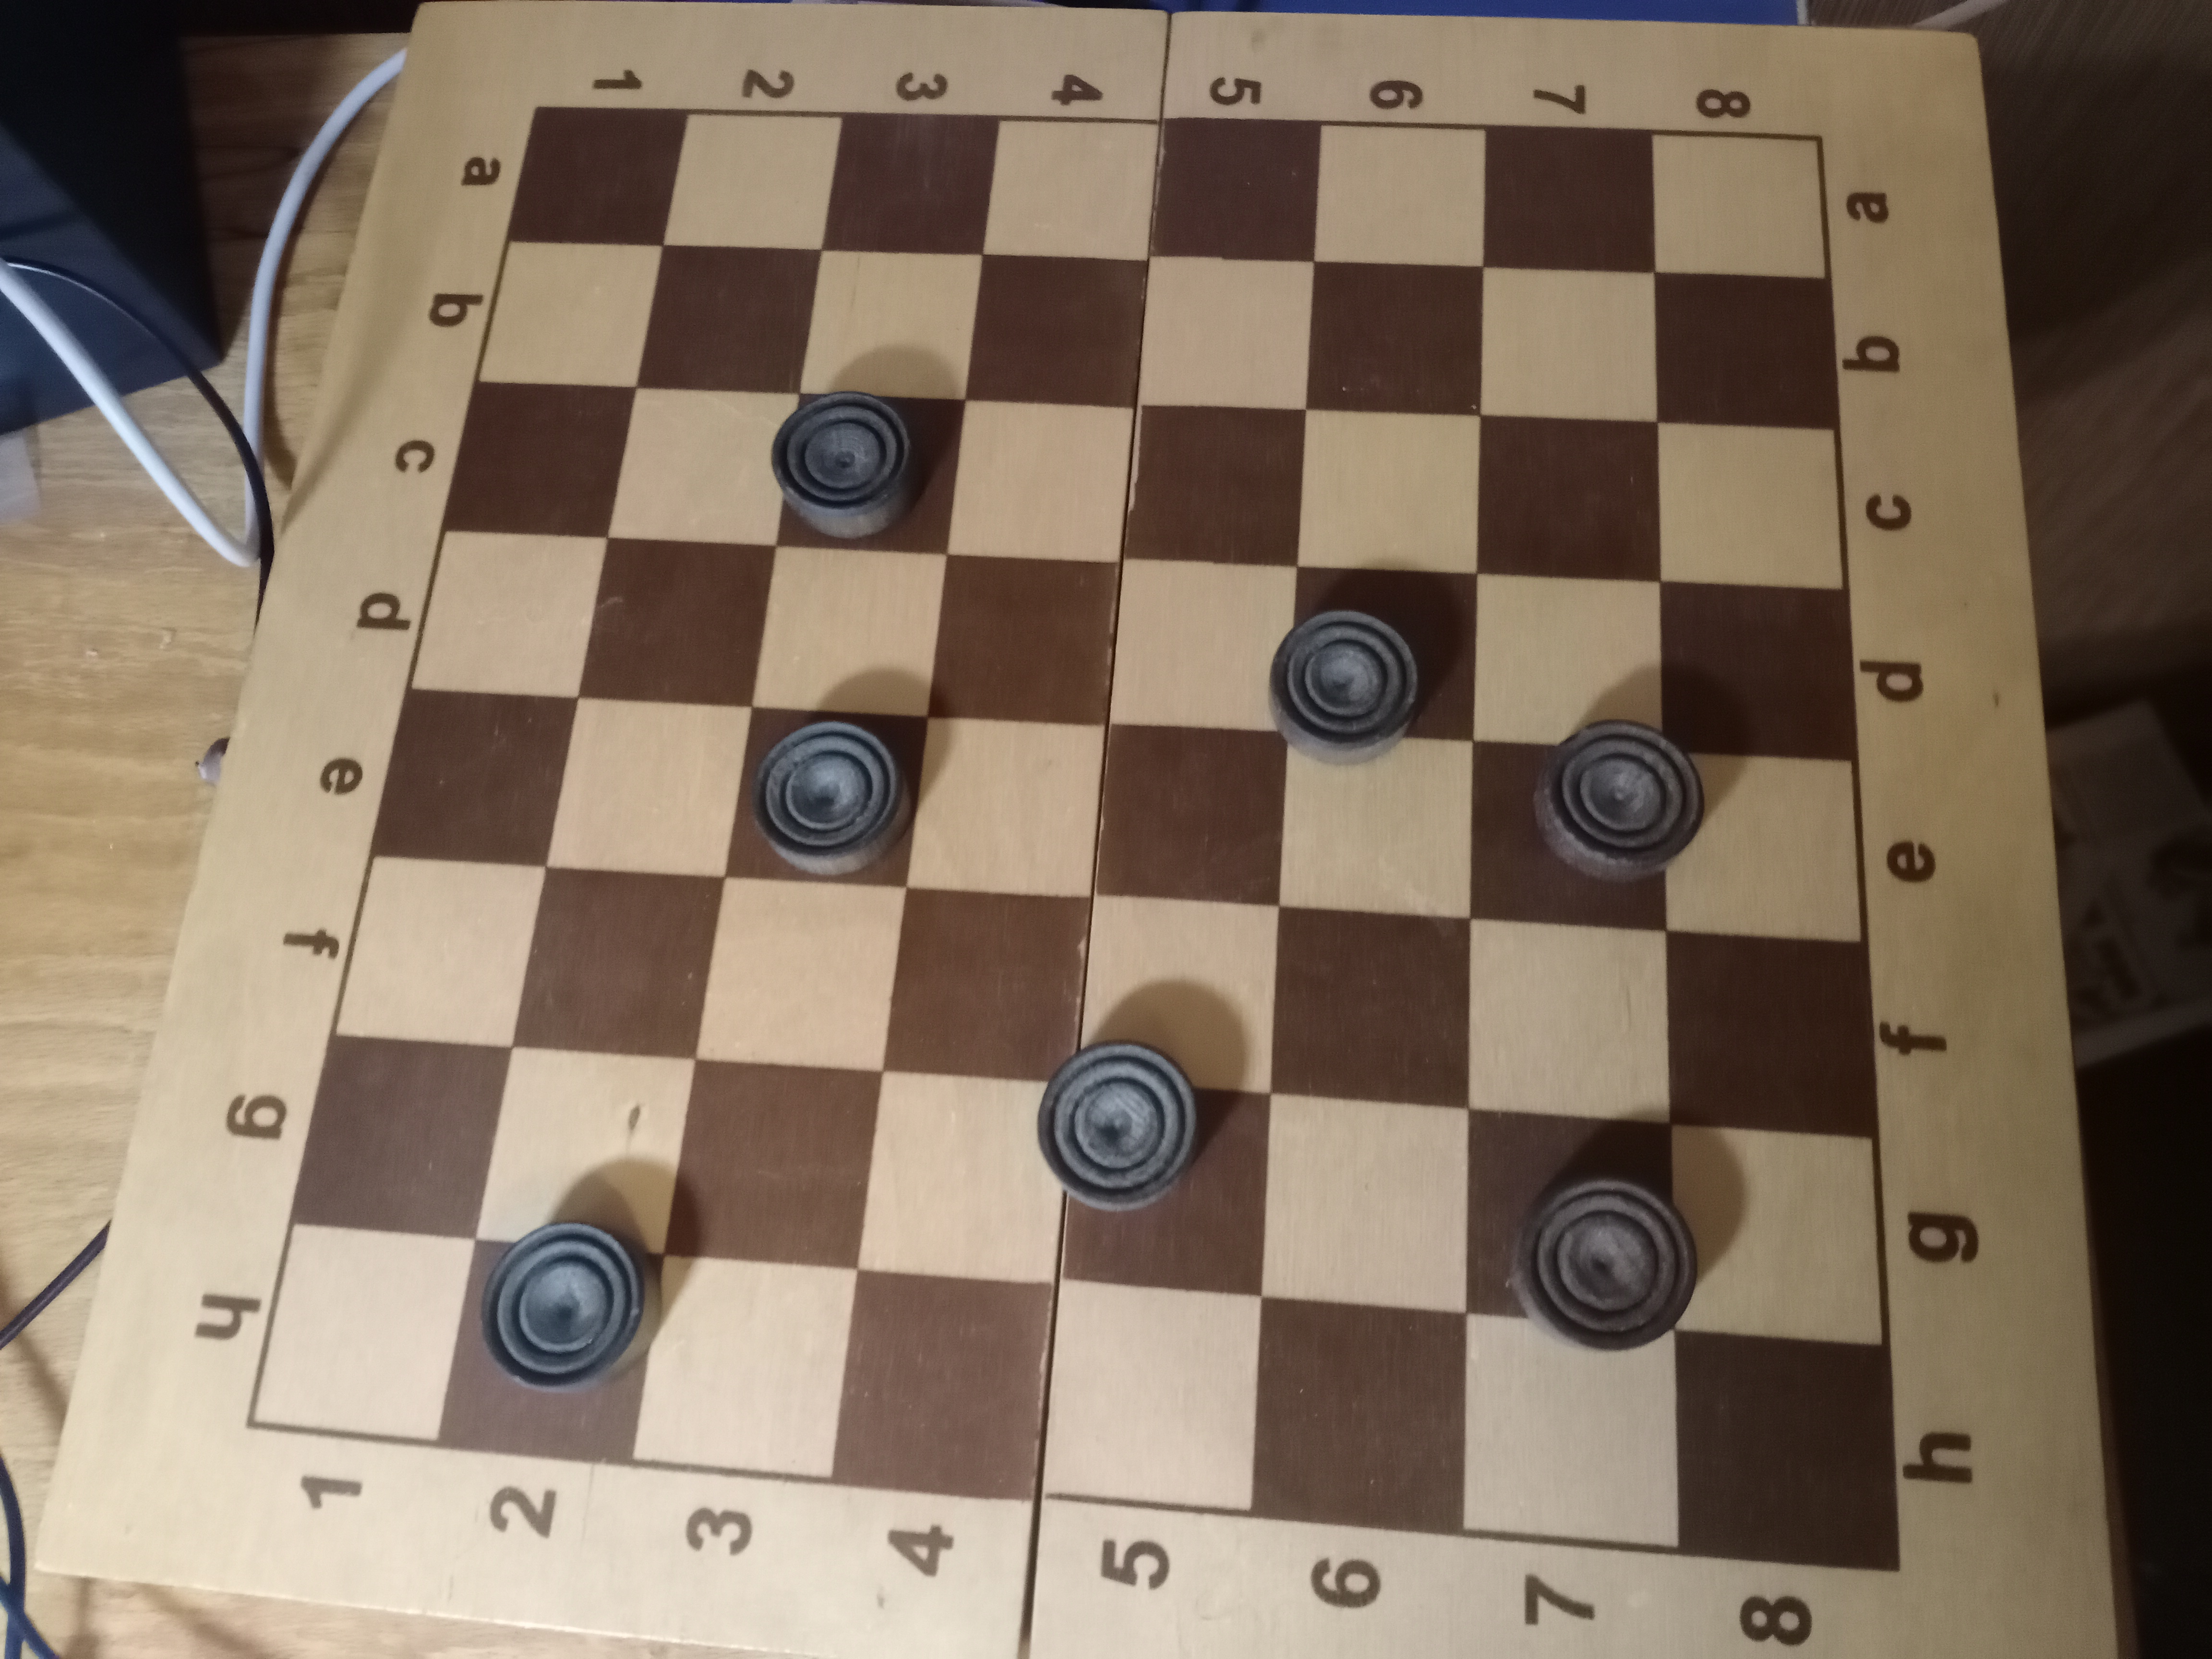Black_Draught: (1042, 1040, 1273, 1297), (1465, 1112, 1700, 1356), (434, 1218, 662, 1466), (1472, 720, 1707, 939), (1270, 563, 1479, 762), (726, 708, 927, 890), (775, 394, 968, 556)
